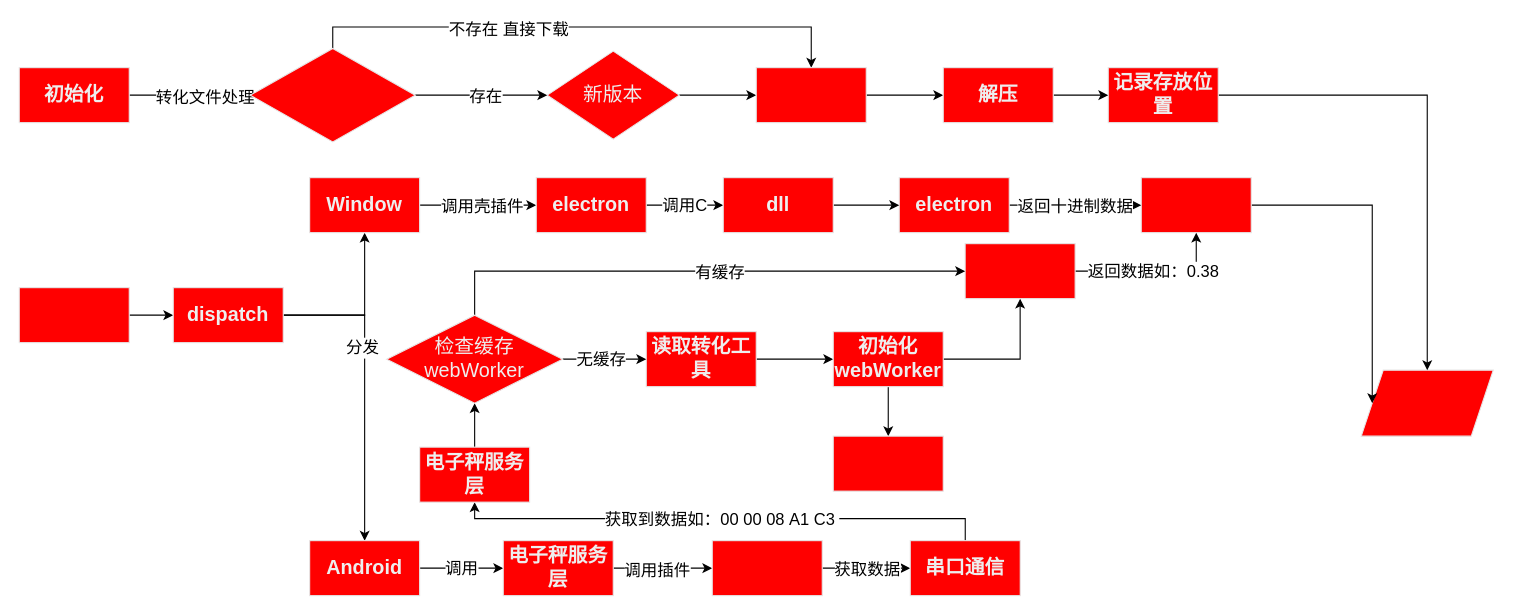
Some shapes in this 1513 by 615 pixel diagram are drawn without their labels. Here are the shapes that lost their labels. From the top down, the centre of each, then its label:
At pixel 332 94: "检查硬件配置包".
At pixel 810 95: "下载".
At pixel 1195 205: "电子秤数据接收".
At pixel 1019 271: "webWorker执行转化".
At pixel 73 315: "电子秤调用事件".
At pixel 1426 402: "结束".
At pixel 887 463: "缓存webWorker".
At pixel 766 568: "电子秤plugin".
